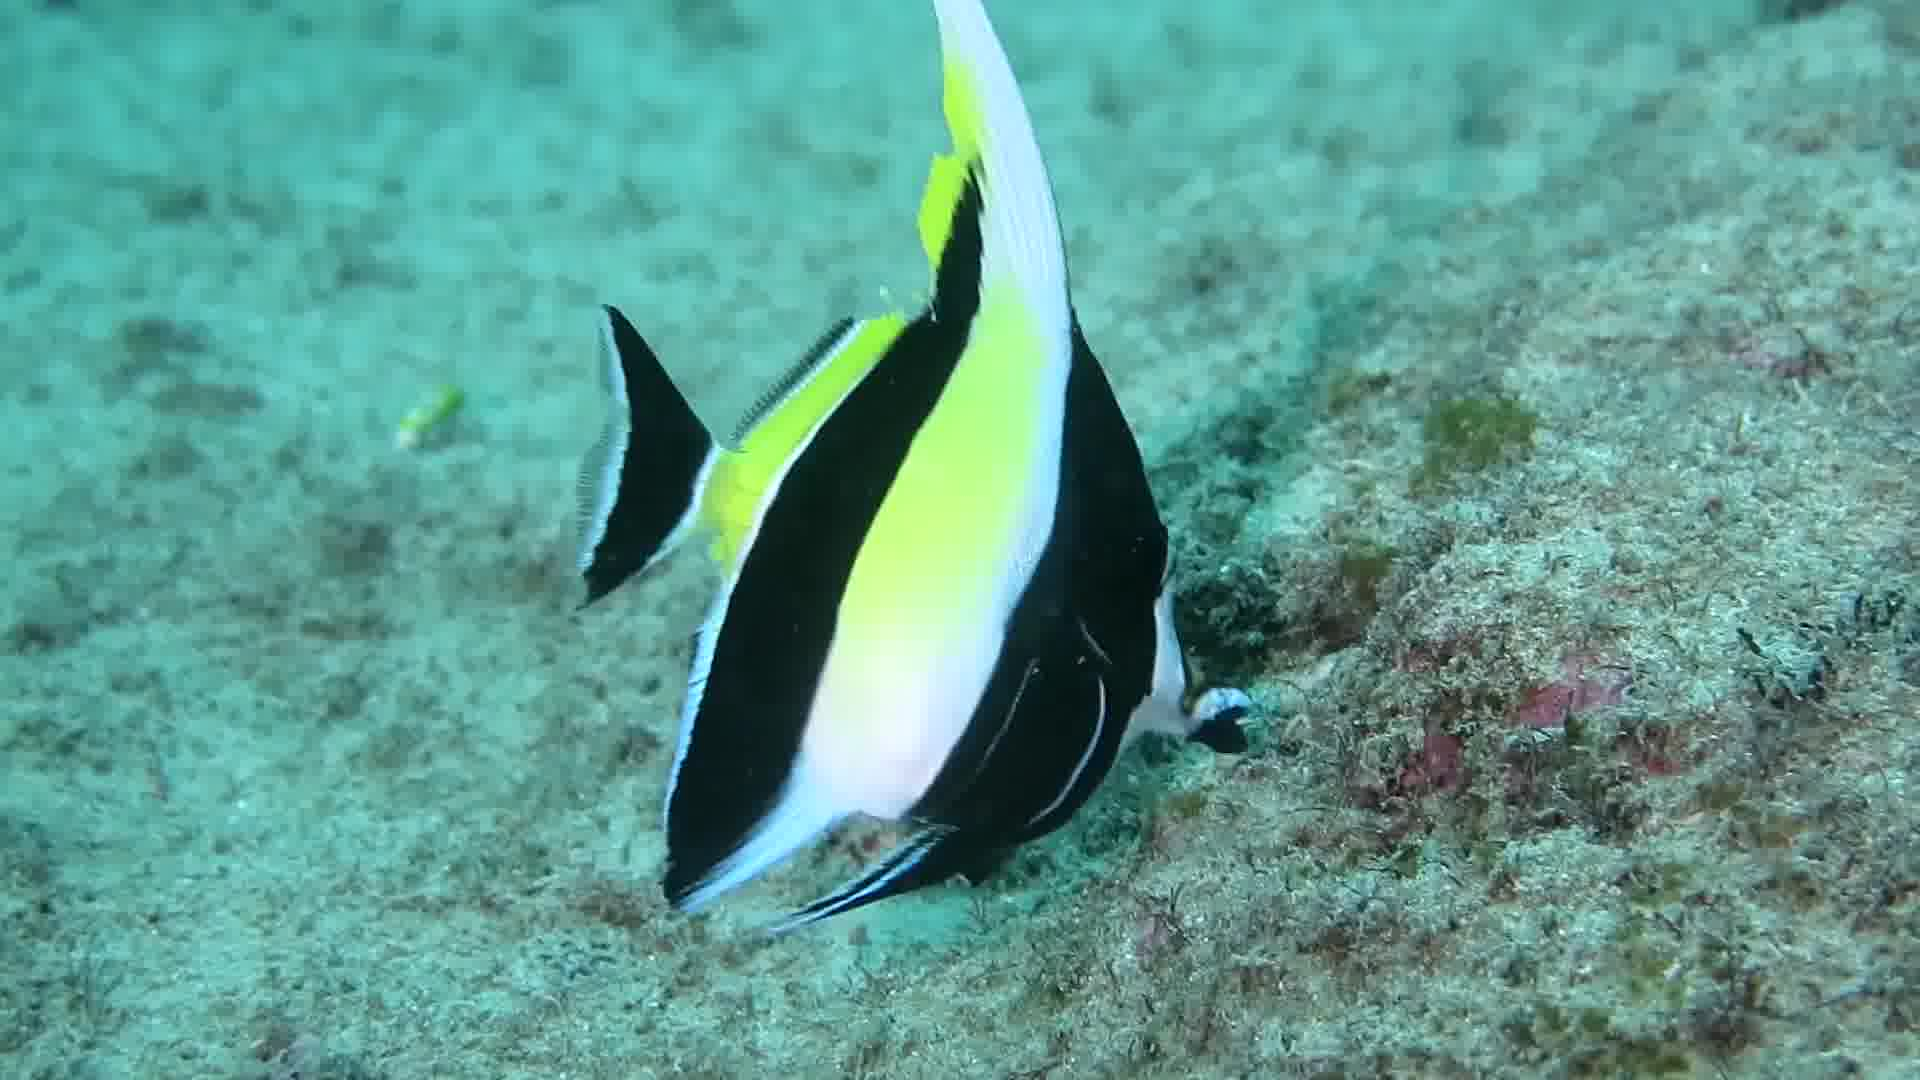Zanclus cornutus: (502, 222, 1271, 928)
